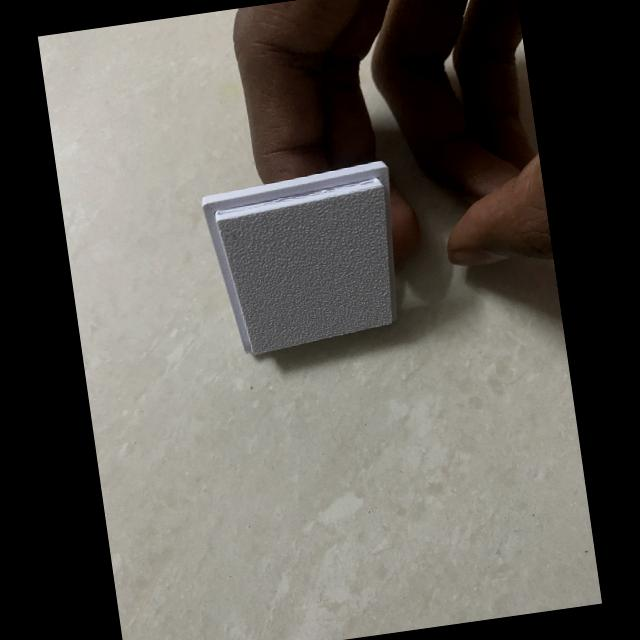RASPBERY PI CAM ENCLOSURE: (199, 160, 412, 361)
